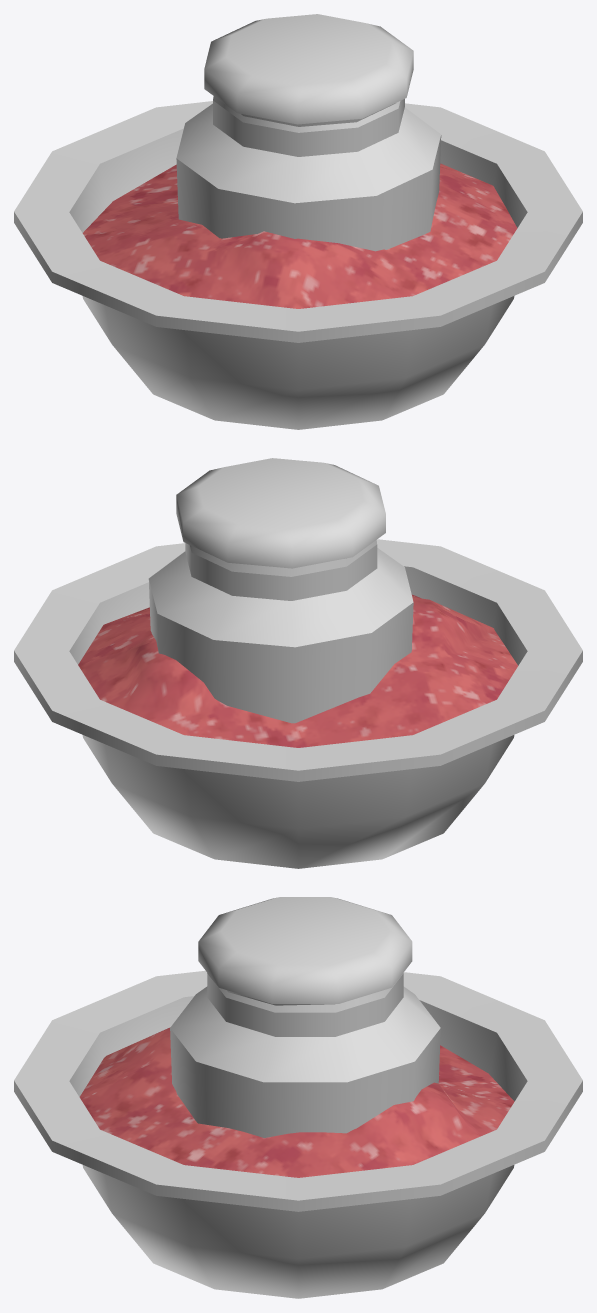
The model's file is Additions.fbx.
3 renders of one model, top to bottom at view 1: azimuth 30°, elevation 25°; view 2: azimuth 150°, elevation 25°; view 3: azimuth 270°, elevation 25°, orthographic.
Parts seen in each view (by area): view 1: Miska, Jar, Miska.001, Cover; view 2: Miska, Jar, Miska.001, Cover; view 3: Miska, Jar, Miska.001, Cover.
Boxes of the visible parts, x1,y1,x2,y2 form: Miska: [14, 101, 582, 429]; Jar: [176, 96, 441, 251]; Miska.001: [82, 163, 517, 308]; Cover: [204, 14, 413, 124]; Miska: [14, 539, 582, 868]; Jar: [148, 540, 413, 723]; Miska.001: [78, 594, 517, 747]; Cover: [176, 458, 385, 568]; Miska: [14, 970, 582, 1298]; Jar: [170, 973, 440, 1137]; Miska.001: [79, 1027, 514, 1177]; Cover: [198, 897, 412, 1003].
Bounding box in the file's own units: 68.69 × 40.49 × 68.69.
